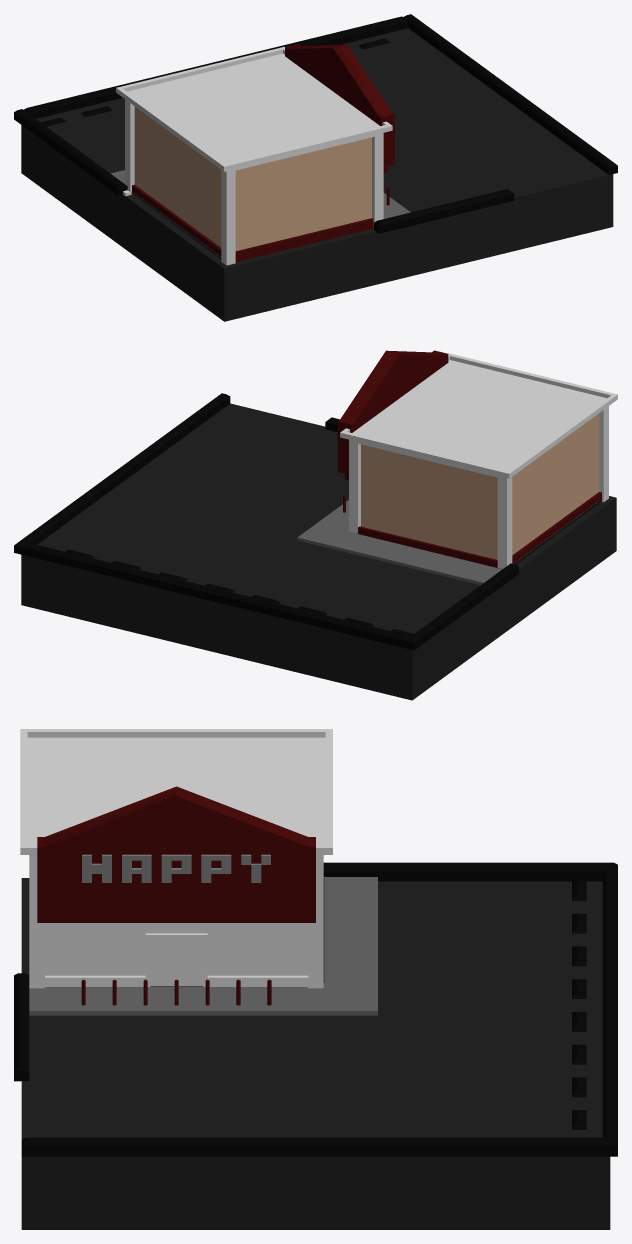
File: HappyMart_Standin.fbx
3 views of the same model, one above another, from view 1: azimuth 30°, elevation 25°; view 2: azimuth 150°, elevation 25°; view 3: azimuth 270°, elevation 25° (orthographic). The views are drawn at different scales.
Visible parts, largest first — view 1: Foundation5, pCube37, pCube120, pCube119, pCube115, pCube31, pCube32, pCube29; view 2: Foundation5, pCube37, pCube118, pCube119, pCube115, pCube29, pCube3, pCube31, Foundation2; view 3: Foundation5, pCube115, pCube37, pCube116, pCube117, pCube54, pCube32, pCube3.
Boxes of the visible parts, x1,y1,x2,y2 form: Foundation5: [14, 14, 617, 321]; pCube37: [116, 46, 392, 172]; pCube120: [235, 137, 373, 261]; pCube119: [132, 106, 221, 256]; pCube115: [285, 44, 394, 173]; pCube31: [221, 170, 235, 265]; pCube32: [372, 134, 383, 228]; pCube29: [125, 99, 134, 194]; Foundation5: [14, 393, 616, 700]; pCube37: [340, 353, 617, 479]; pCube118: [358, 444, 497, 567]; pCube119: [512, 413, 601, 563]; pCube115: [337, 350, 448, 480]; pCube29: [497, 477, 512, 568]; pCube3: [349, 441, 360, 533]; pCube31: [599, 406, 608, 502]; Foundation2: [356, 500, 601, 569]; Foundation5: [14, 862, 617, 1229]; pCube115: [37, 786, 315, 922]; pCube37: [20, 729, 332, 858]; pCube116: [45, 923, 308, 975]; pCube117: [45, 933, 308, 986]; pCube54: [150, 938, 202, 986]; pCube32: [29, 858, 44, 988]; pCube3: [308, 858, 323, 988].
Size of the model in its own units: 4.3 by 2.02 by 3.9.
